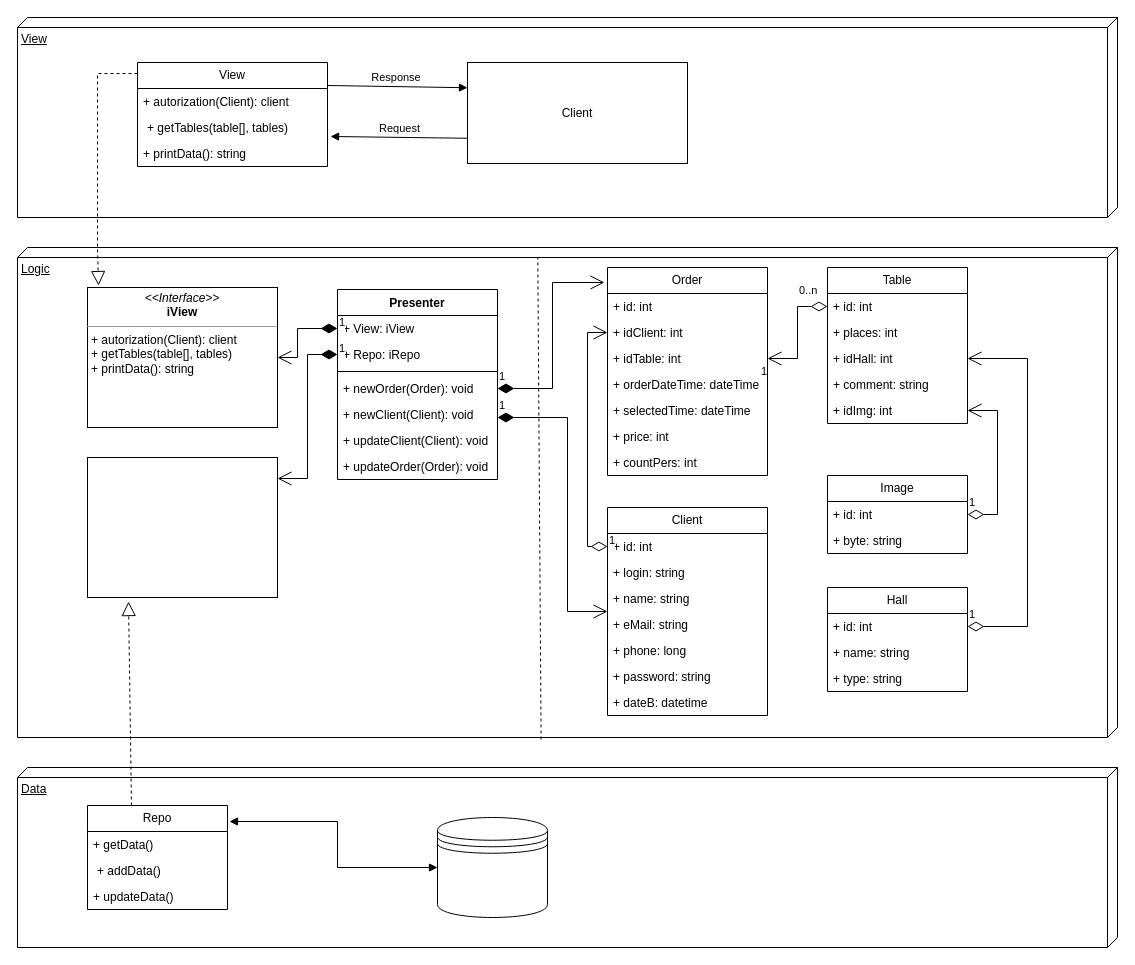
This 1135x965 diagram has some shape labels left out. The shapes that lost their labels are listed below. From the top down, each one's centre as x and y in pixels, then its label:
At pixel 182 527: "<<Interface>> iRepo + getData() + addData() + updateData()".
At pixel 492 867: "DB".
